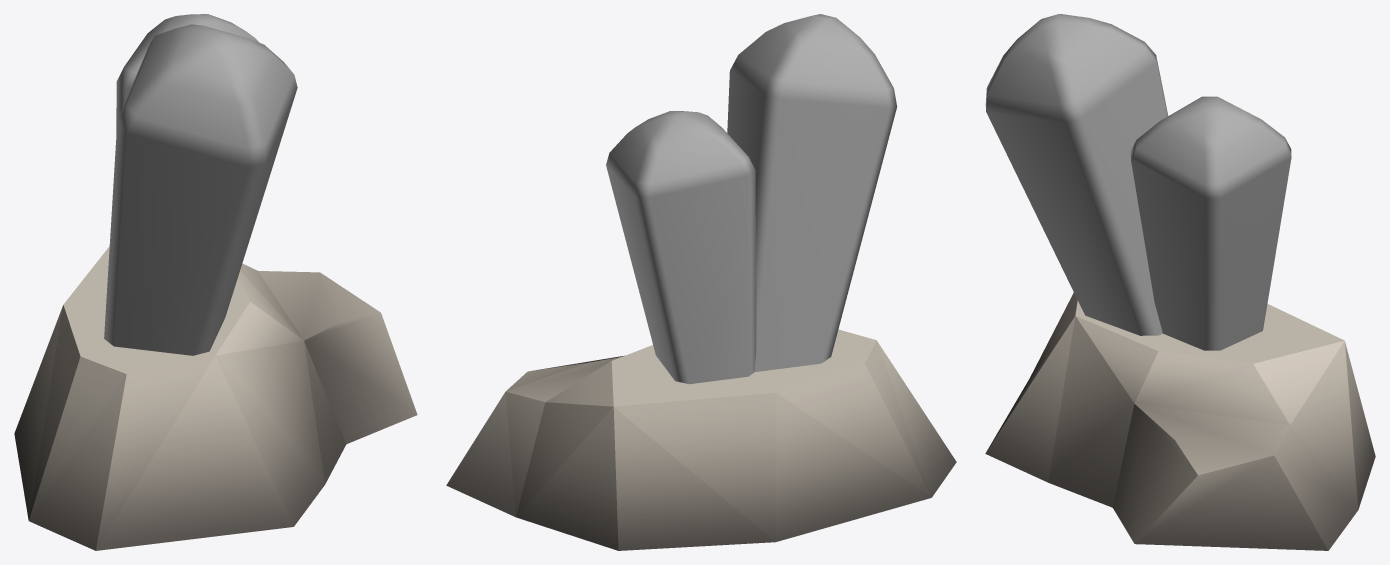
File: SM_Crystal_Node_5.fbx
3 views of the same model, side by side, from view 1: azimuth 30°, elevation 25°; view 2: azimuth 150°, elevation 25°; view 3: azimuth 270°, elevation 25° (orthographic). The views are drawn at different scales.
Parts seen in each view (by area): view 1: Crystal_Node_5; view 2: Crystal_Node_5; view 3: Crystal_Node_5.
Part boxes in pixels (<box>): Crystal_Node_5: <box>14,14,417,550</box>; Crystal_Node_5: <box>446,14,956,550</box>; Crystal_Node_5: <box>985,14,1375,550</box>.
Size of the model in its own units: 244 by 263 by 222.
2 materials, 1 textured.
